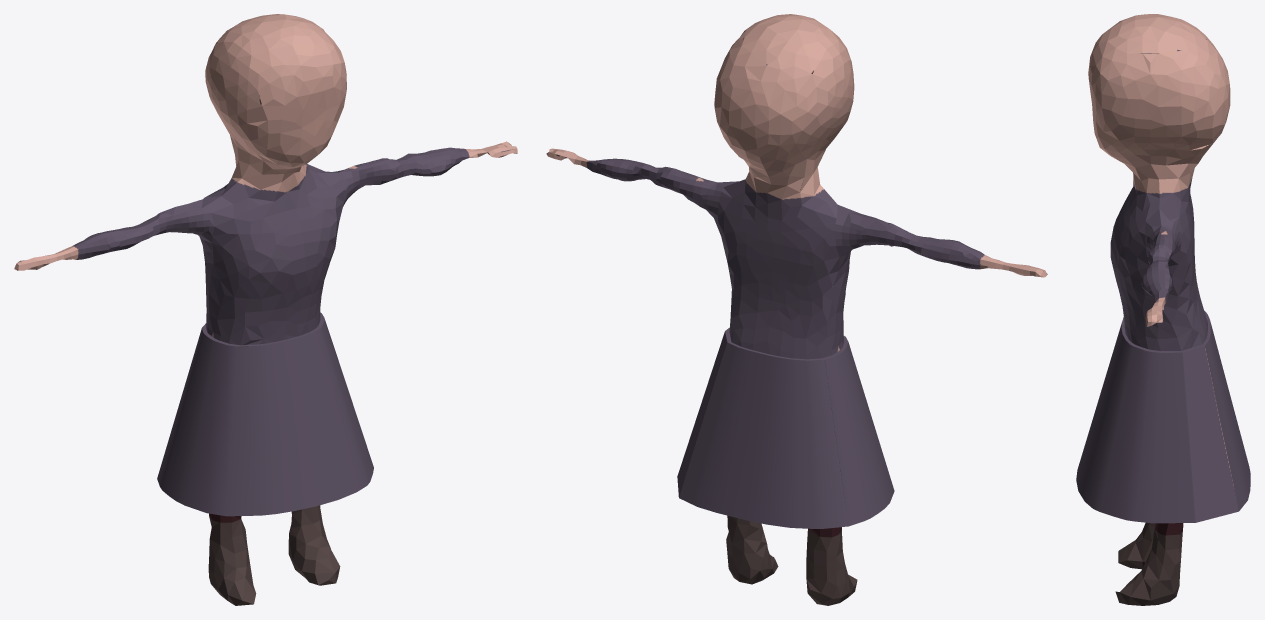
File: girl_1.fbx
The picture shows the model from 3 angles, left to right: view 1: azimuth 30°, elevation 25°; view 2: azimuth 150°, elevation 25°; view 3: azimuth 270°, elevation 25°; orthographic projection.
Visible parts, largest first — view 1: girl_1_skirt; view 2: girl_1_skirt; view 3: girl_1_skirt.
Boxes of the visible parts, <box> form: girl_1_skirt: <box>14,14,517,605</box>; girl_1_skirt: <box>546,14,1047,605</box>; girl_1_skirt: <box>1076,14,1250,605</box>.
Bounding box in the file's own units: 290 × 314 × 87.91.
Materials: 1 (1 with a texture image).
